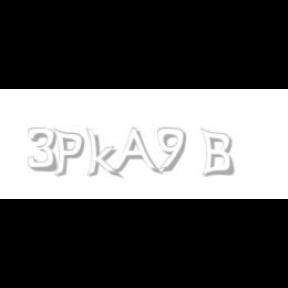3: (28, 128, 58, 172)
9: (158, 128, 186, 172)
A: (111, 128, 159, 176)
B: (200, 128, 234, 178)
P: (53, 128, 85, 178)
k: (85, 128, 123, 180)
